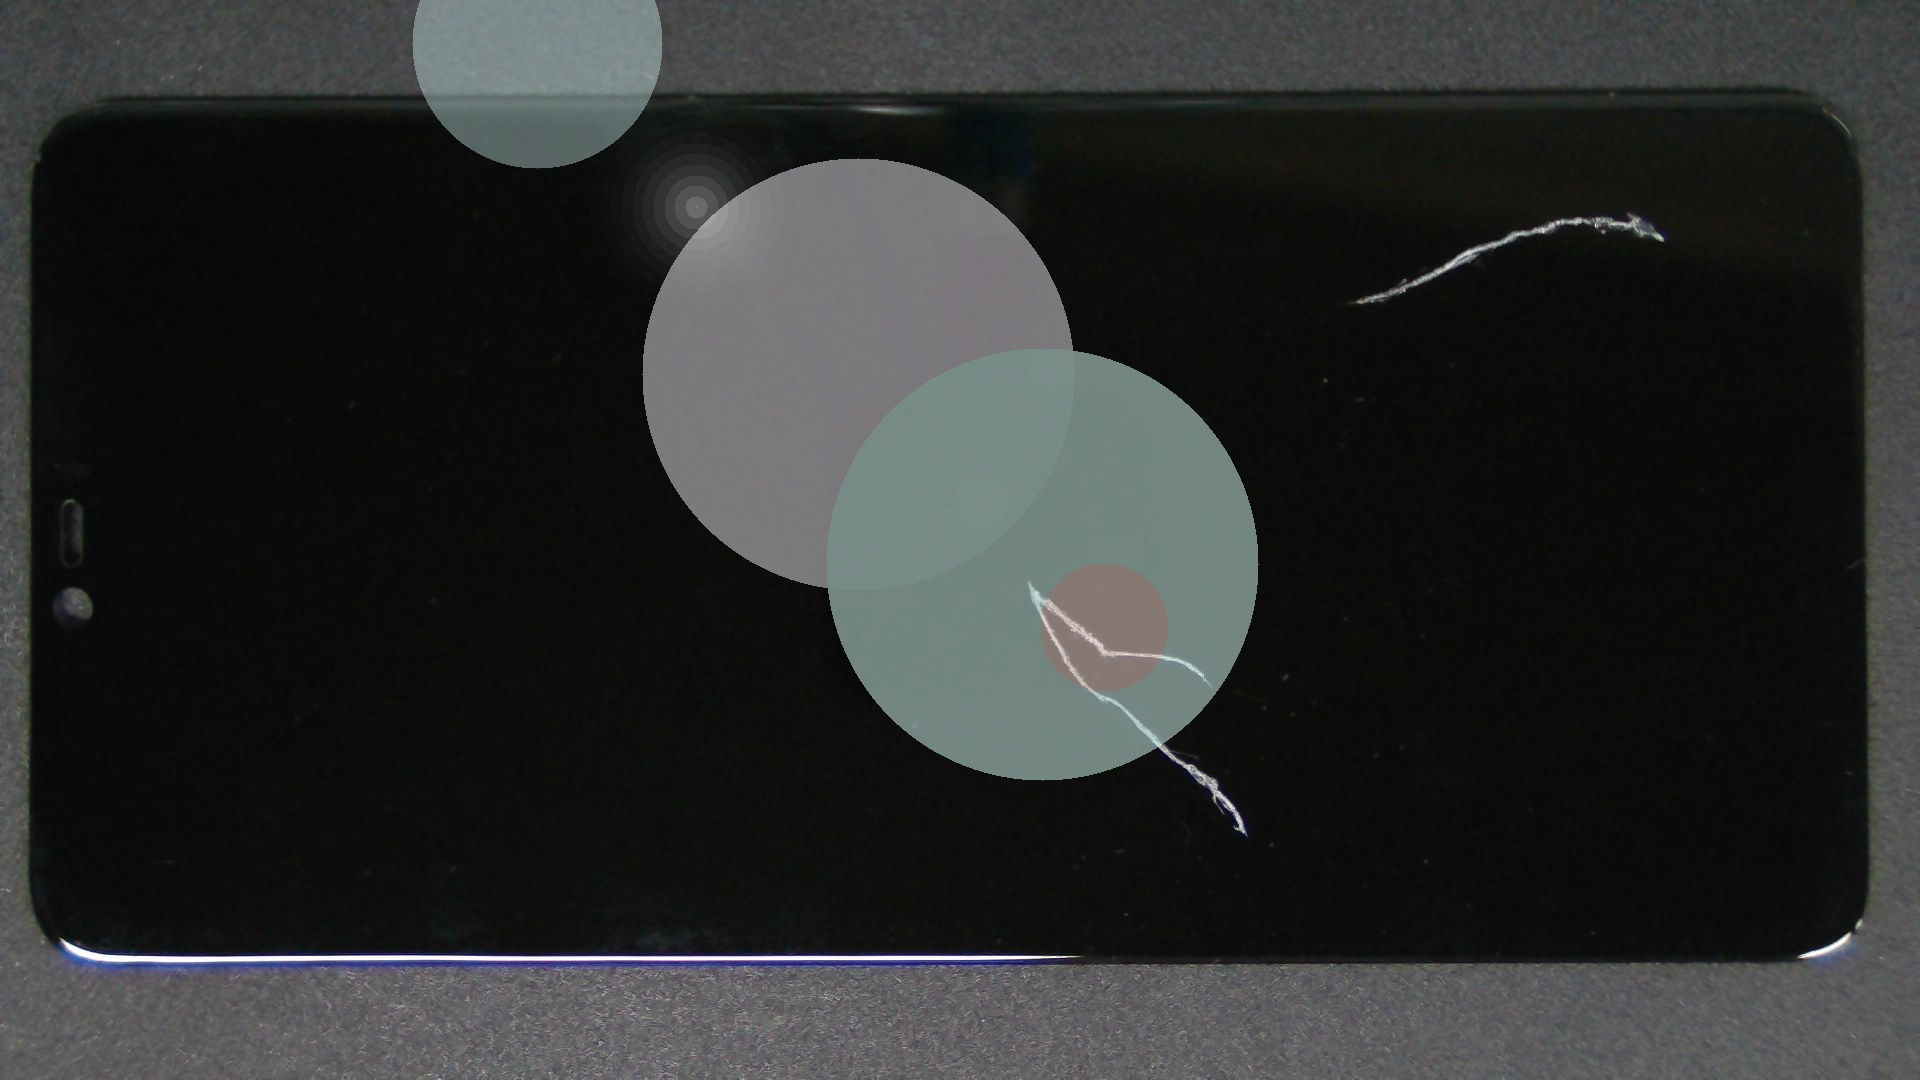oil: (513, 287, 1540, 873), (812, 105, 1920, 319)
